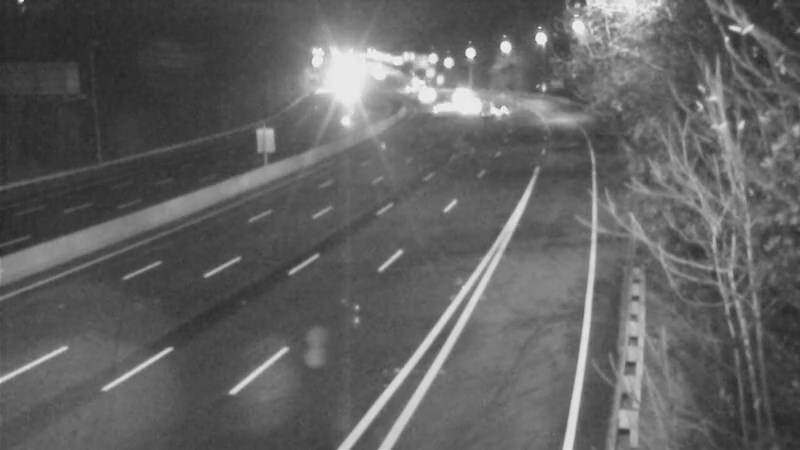vehicle: (399, 73, 449, 123), (437, 65, 487, 115), (437, 73, 487, 123), (416, 80, 466, 130), (450, 83, 500, 133), (472, 84, 522, 134)
